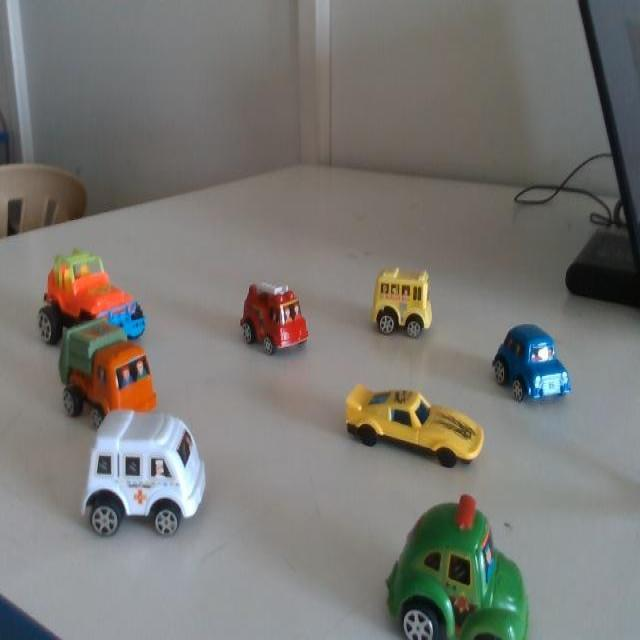car: (93, 390, 230, 560), (415, 509, 538, 639), (359, 373, 479, 484), (70, 242, 154, 350), (85, 310, 153, 430), (364, 261, 446, 355), (238, 270, 311, 374), (504, 320, 573, 410)
